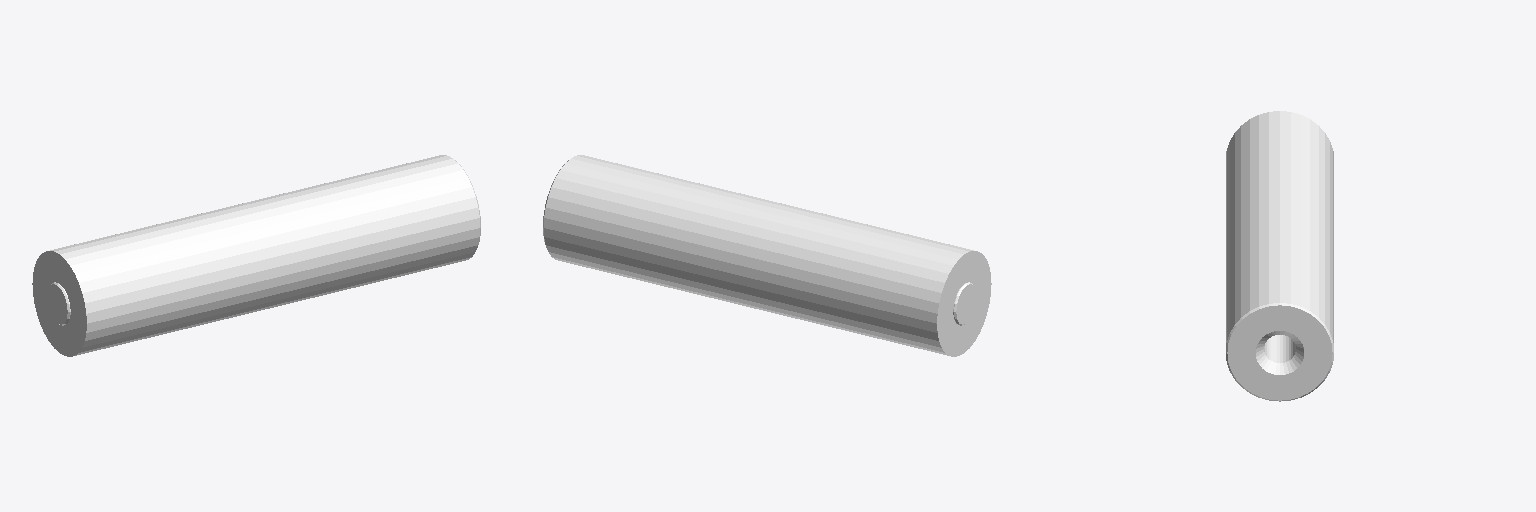
The model's file is 762_54_suppressor.obj.
3 views of the same model, side by side, from view 1: azimuth 30°, elevation 25°; view 2: azimuth 150°, elevation 25°; view 3: azimuth 270°, elevation 25° (orthographic).
Visible parts, largest first — view 1: attachmentModel; view 2: attachmentModel; view 3: attachmentModel.
Boxes of the visible parts, x1,y1,x2,y2 form: attachmentModel: [32, 155, 480, 356]; attachmentModel: [543, 155, 991, 356]; attachmentModel: [1226, 111, 1333, 401].
Bounding box in the file's own units: 9.34 × 2.21 × 2.21.